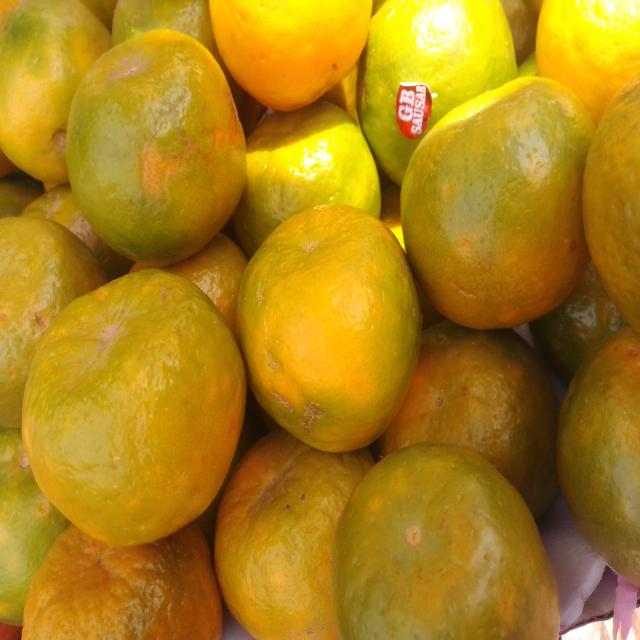orange: (23, 270, 245, 545), (402, 78, 593, 328), (238, 205, 420, 451), (332, 444, 559, 639), (67, 30, 245, 266), (378, 322, 557, 517), (215, 429, 373, 639), (358, 0, 516, 185), (233, 101, 380, 256), (23, 525, 222, 639), (0, 217, 106, 428), (558, 327, 639, 584), (113, 0, 264, 135), (0, 0, 110, 183), (210, 0, 371, 110), (584, 75, 639, 330), (0, 428, 68, 625), (536, 0, 639, 124), (195, 389, 268, 553), (530, 263, 626, 380), (22, 185, 131, 280), (163, 234, 247, 335), (501, 0, 537, 65), (321, 64, 359, 124), (0, 175, 41, 218), (380, 184, 404, 249), (81, 0, 117, 30), (0, 150, 16, 178), (0, 0, 19, 22)
